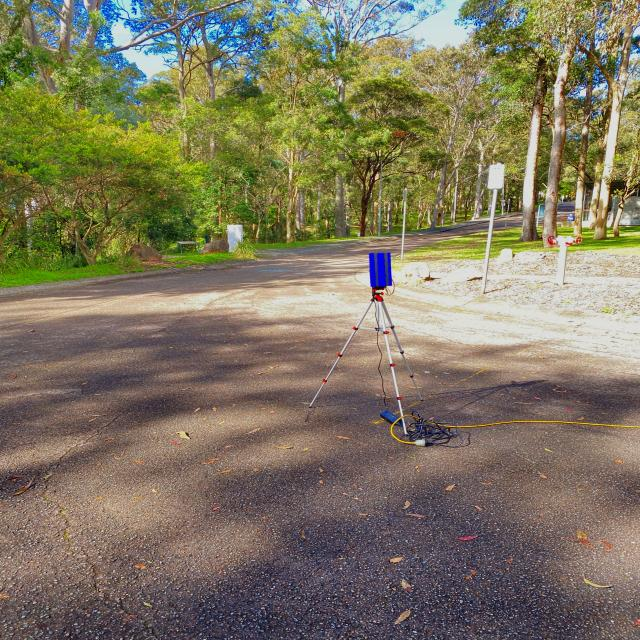matrix: (368, 253, 394, 291)
